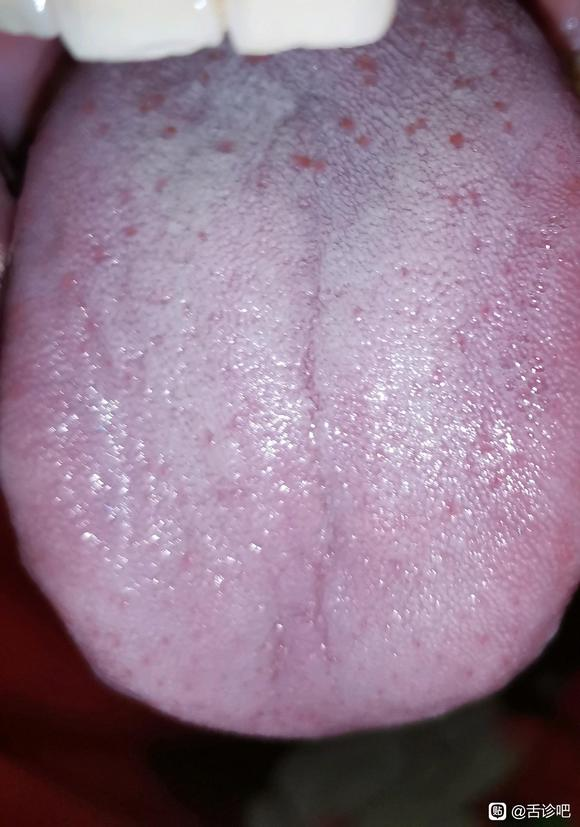baitaishe: (1, 1, 574, 737)
hongdianshe: (287, 146, 312, 172), (351, 51, 377, 75), (445, 126, 468, 152), (157, 120, 180, 144), (334, 115, 354, 136)
